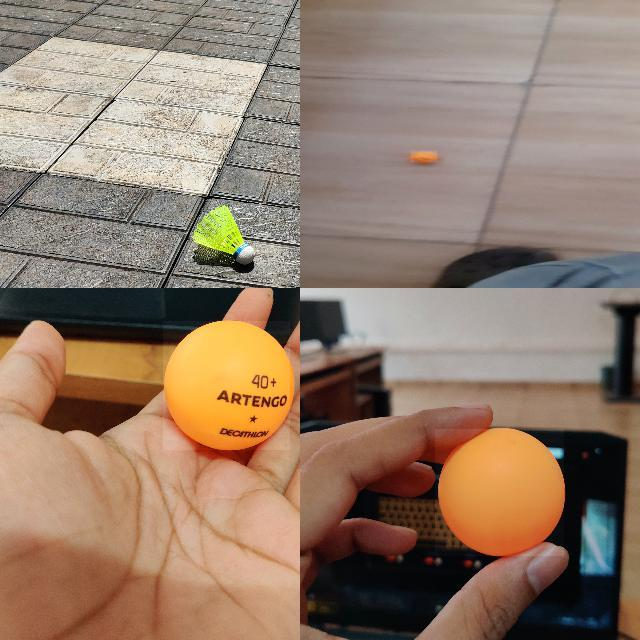ping-pong-ball: (435, 428, 565, 558), (163, 321, 291, 451), (411, 150, 438, 163)
